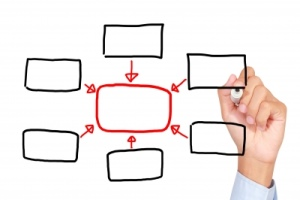line: (168, 122, 193, 142), (124, 59, 140, 83), (171, 76, 188, 95), (78, 121, 95, 139), (124, 133, 139, 150), (82, 80, 97, 95)
square: (95, 82, 173, 134), (185, 49, 249, 91), (101, 21, 165, 60), (22, 55, 84, 94), (188, 118, 248, 158), (103, 147, 166, 183), (21, 126, 79, 164)
